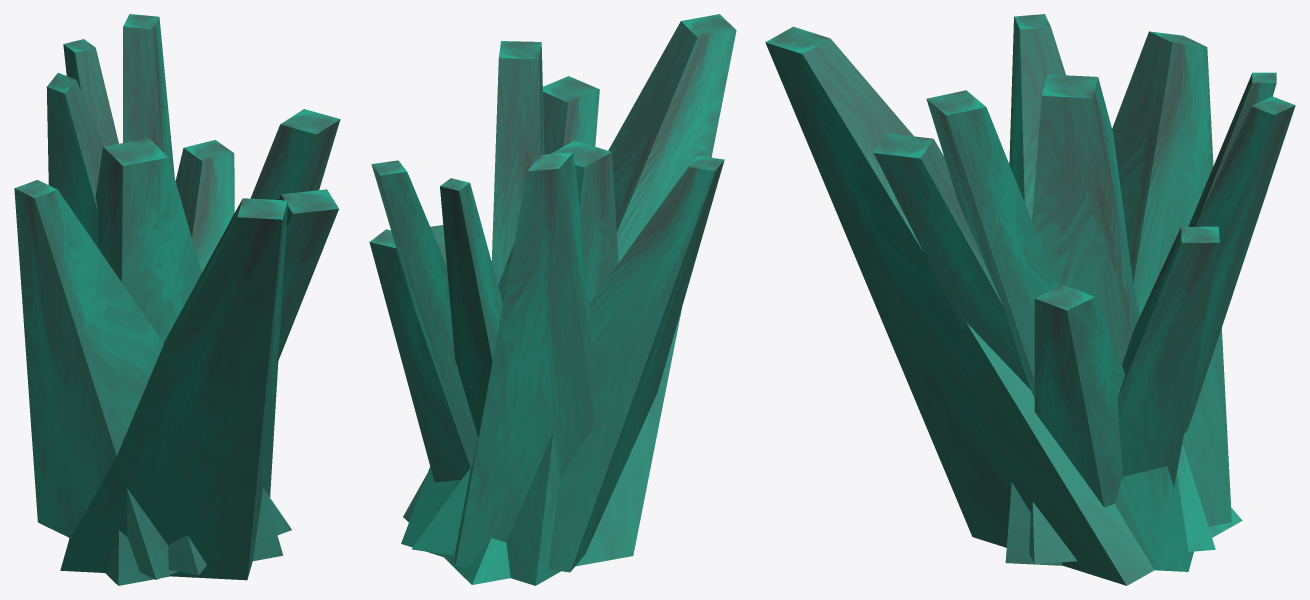
File: crystal_2.fbx
3 views of the same model, side by side, from view 1: azimuth 30°, elevation 25°; view 2: azimuth 150°, elevation 25°; view 3: azimuth 270°, elevation 25° (orthographic). The views are drawn at different scales.
Parts seen in each view (by area): view 1: Cube.001; view 2: Cube.001; view 3: Cube.001.
Boxes of the visible parts, x1,y1,x2,y2 form: Cube.001: (14, 14, 340, 585); Cube.001: (369, 14, 736, 585); Cube.001: (765, 14, 1295, 585).
Size of the model in its own units: 1.11 by 1.5 by 1.56.
